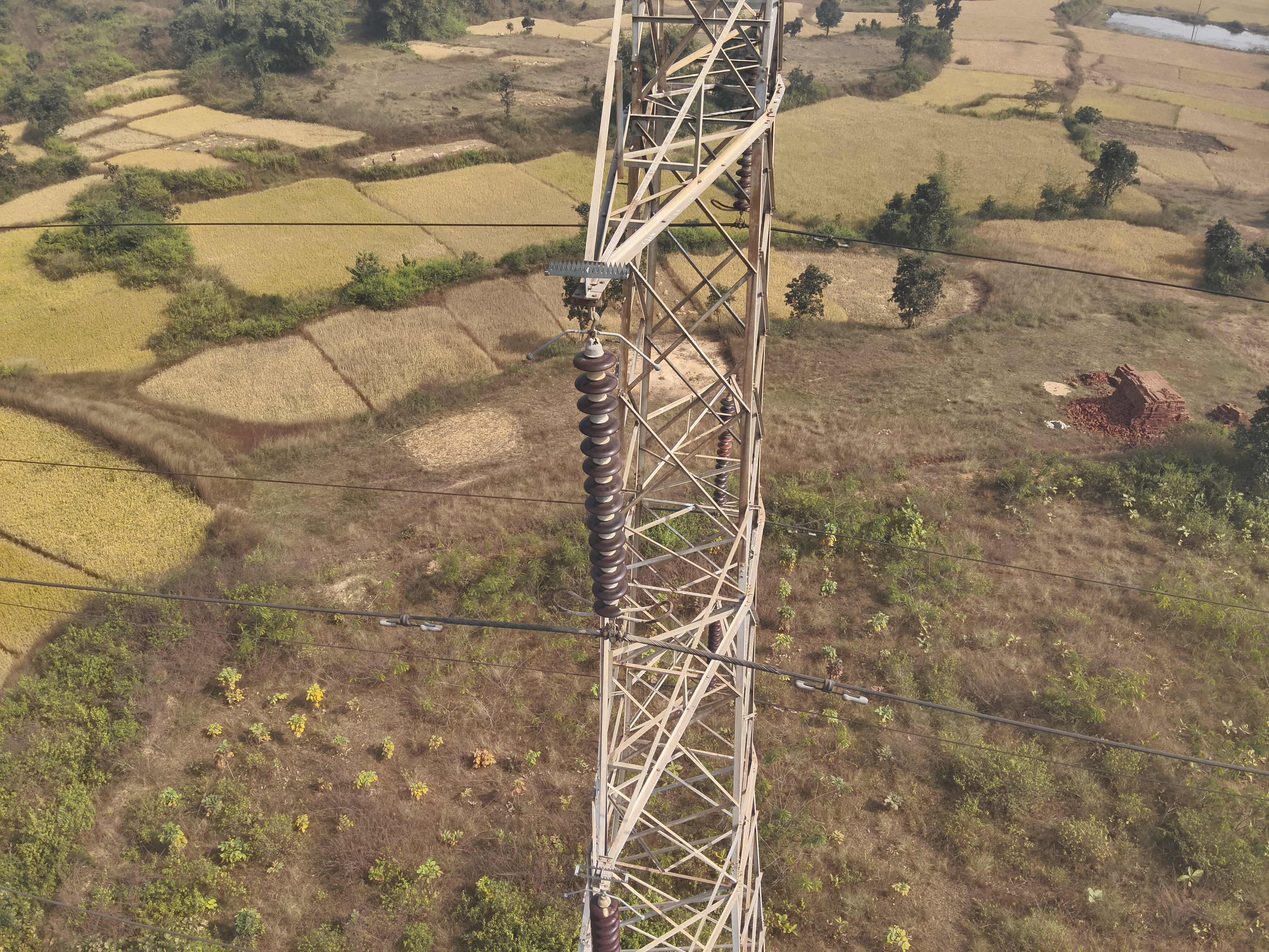broken_insulator: (591, 599, 627, 619)
